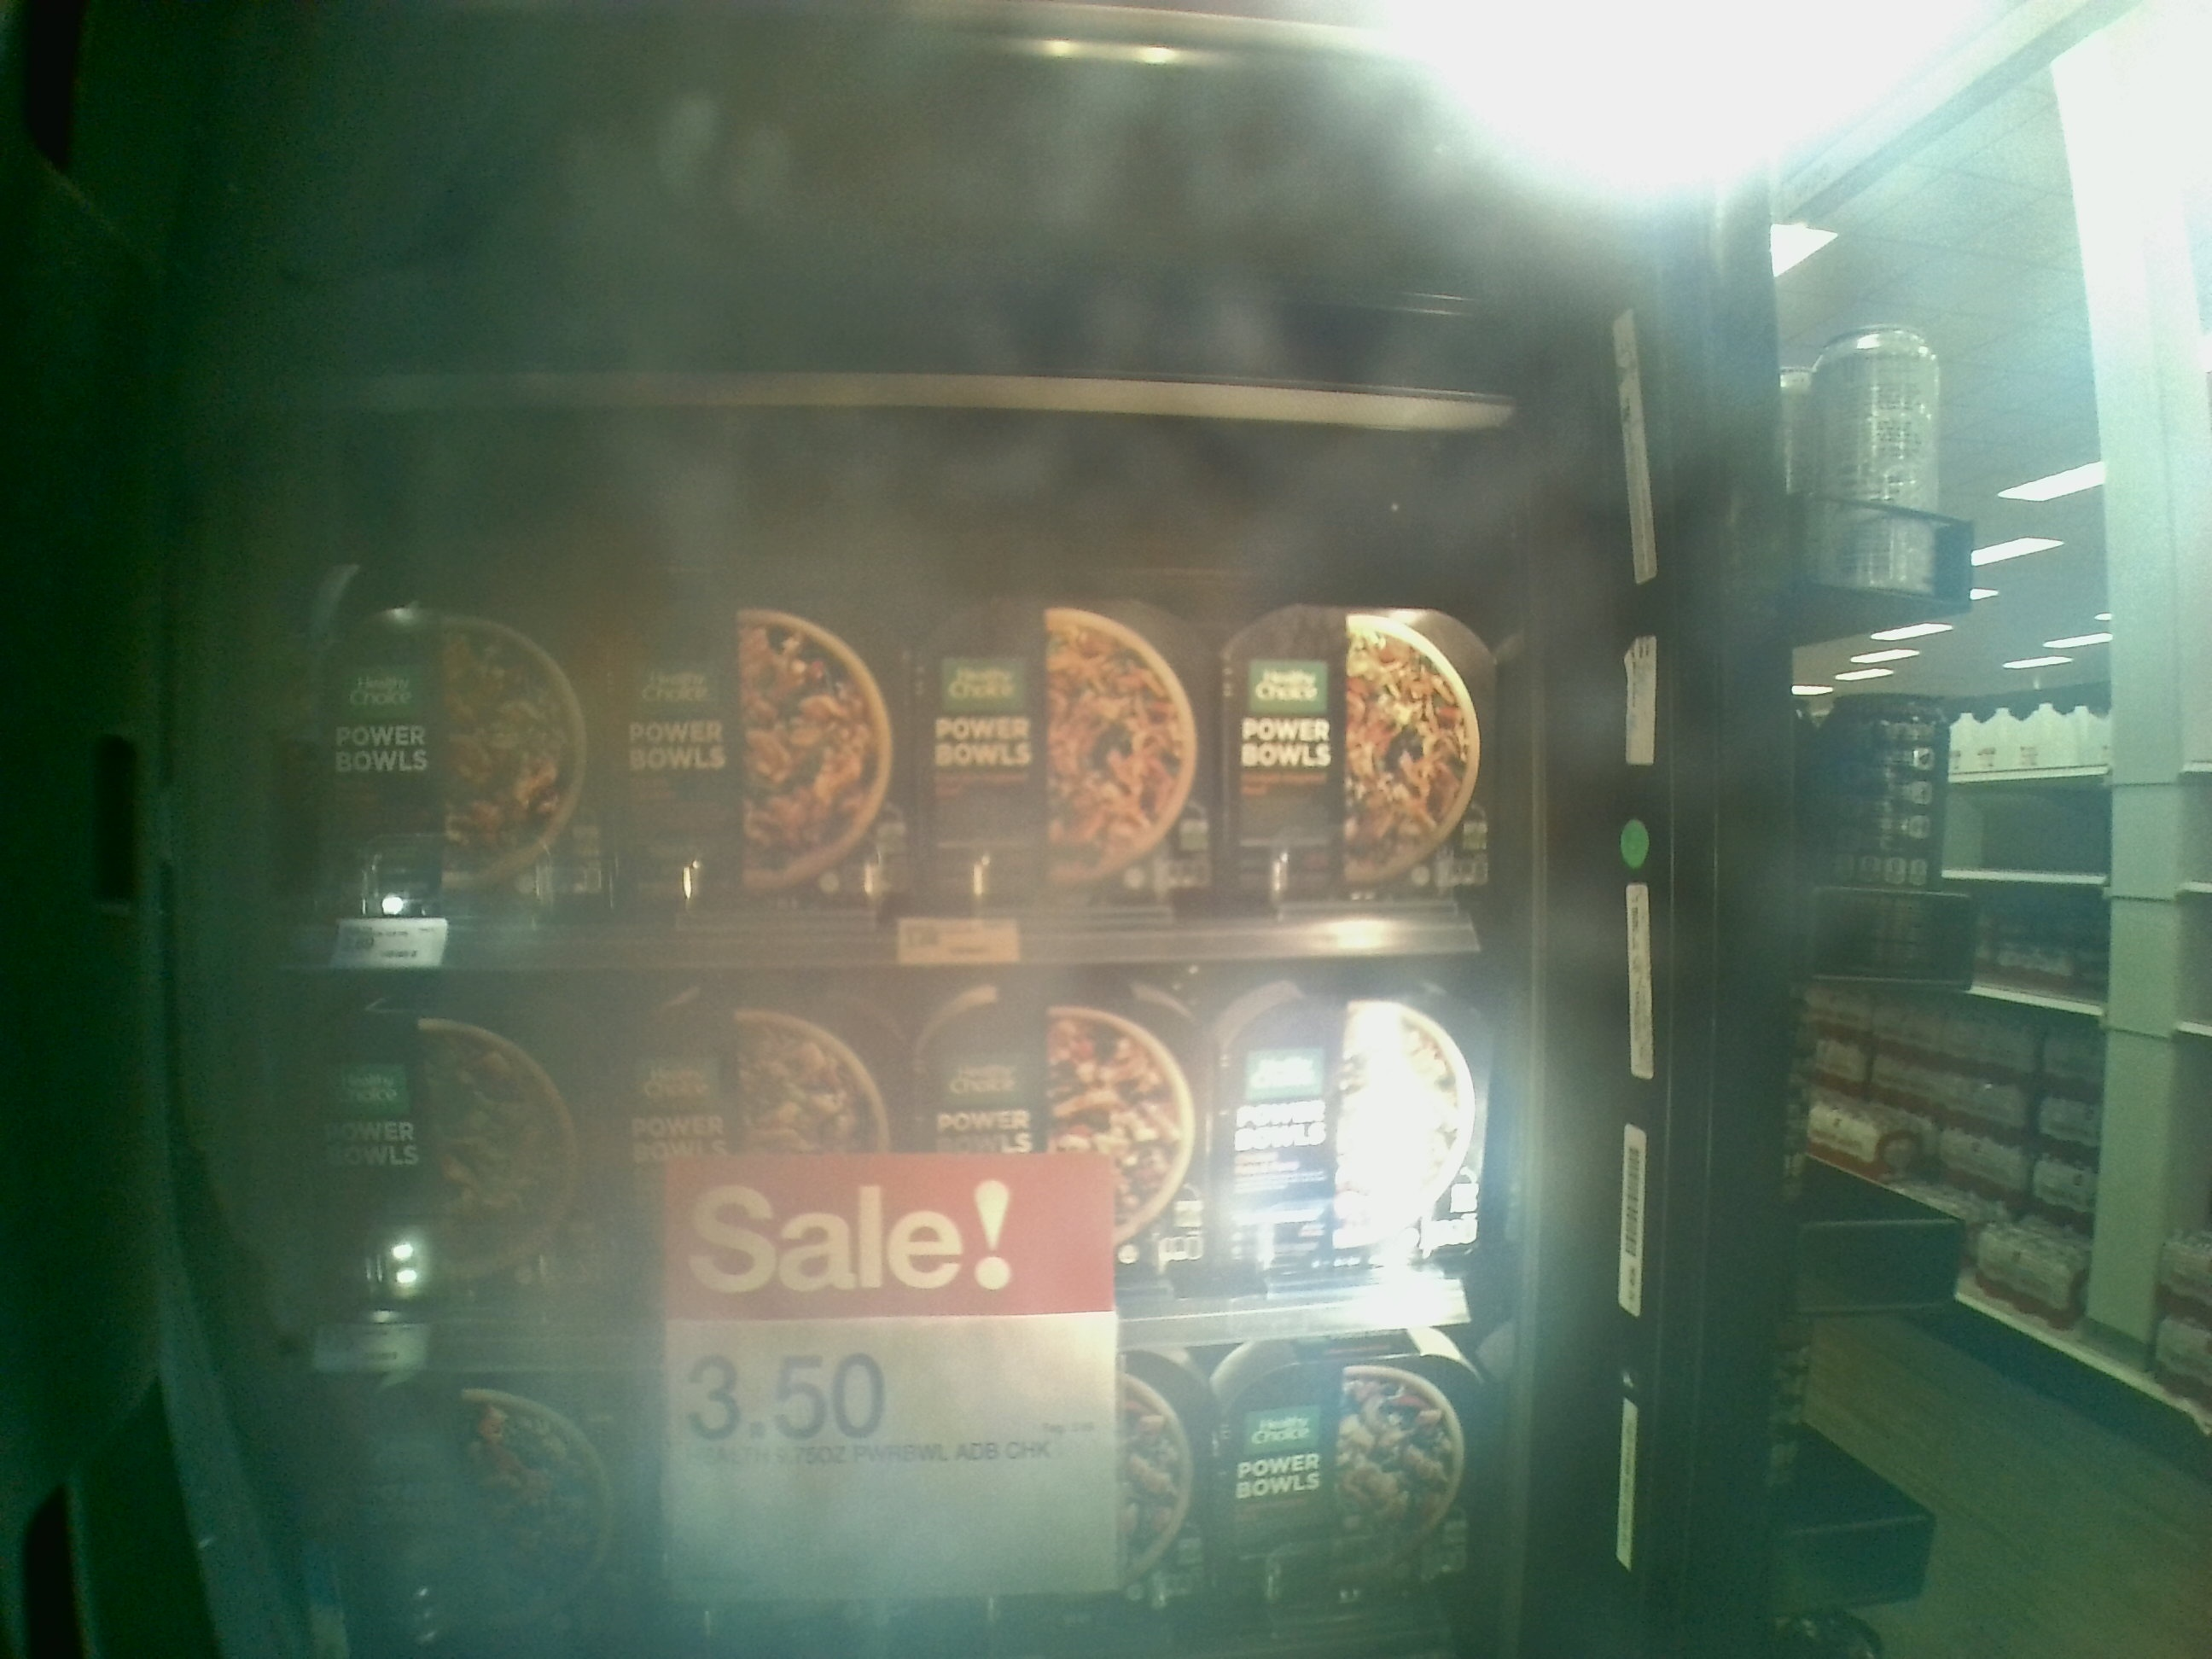shelf: (266, 401, 1480, 964)
